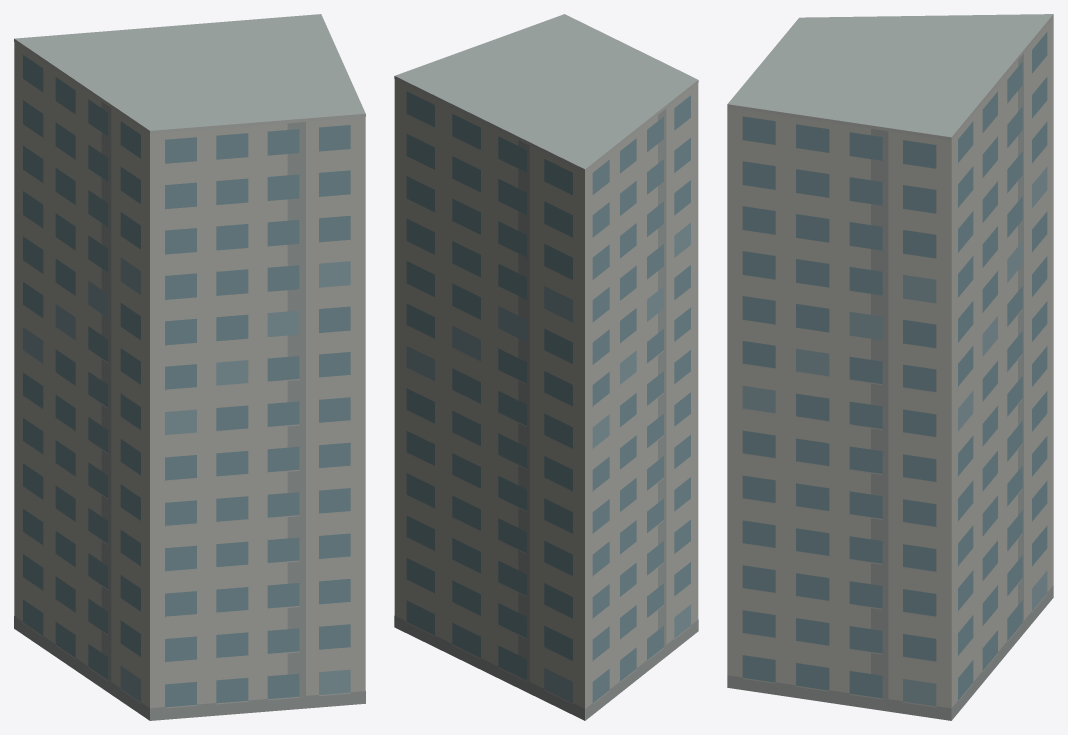
Rendered from residential-5151aea9-77f5-496b-8a96-8dda745b5b1f.glb.
3 renders of one model, left to right at view 1: azimuth 30°, elevation 25°; view 2: azimuth 150°, elevation 25°; view 3: azimuth 270°, elevation 25°, orthographic. The views are drawn at different scales.
Visible parts, largest first — view 1: residential-5151aea9-77f5-496b-8a96-8dda745b5b1f.tmp; view 2: residential-5151aea9-77f5-496b-8a96-8dda745b5b1f.tmp; view 3: residential-5151aea9-77f5-496b-8a96-8dda745b5b1f.tmp.
Boxes of the visible parts, <box> form: residential-5151aea9-77f5-496b-8a96-8dda745b5b1f.tmp: <box>14,14,365,720</box>; residential-5151aea9-77f5-496b-8a96-8dda745b5b1f.tmp: <box>394,14,698,720</box>; residential-5151aea9-77f5-496b-8a96-8dda745b5b1f.tmp: <box>727,14,1053,720</box>.
Size of the model in its own units: 19.05 by 42 by 21.28.
